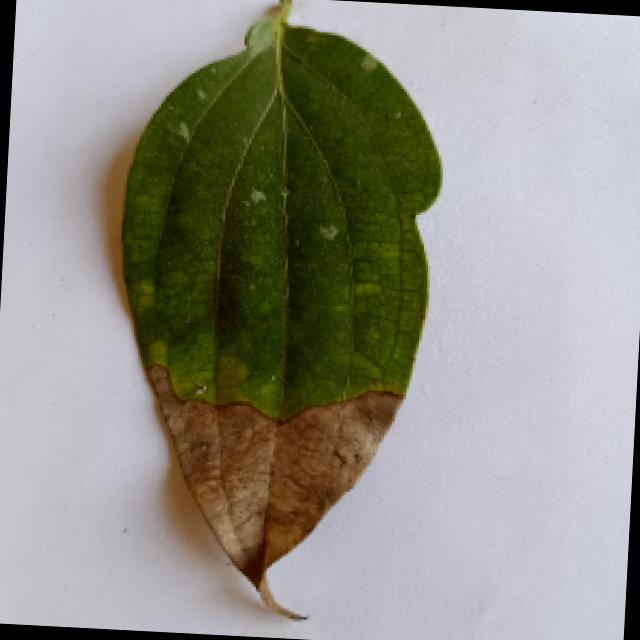footrot: (97, 0, 446, 623)
